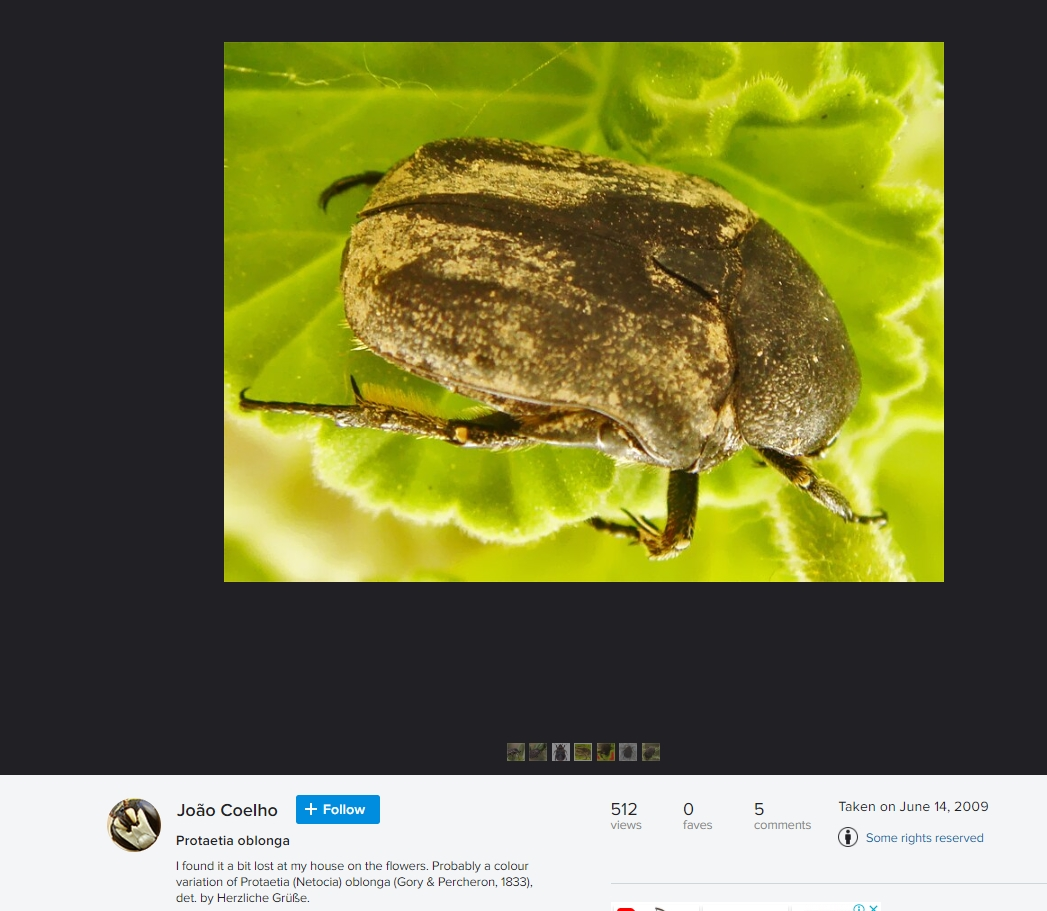Protaetia_oblonga: (235, 131, 895, 563)
